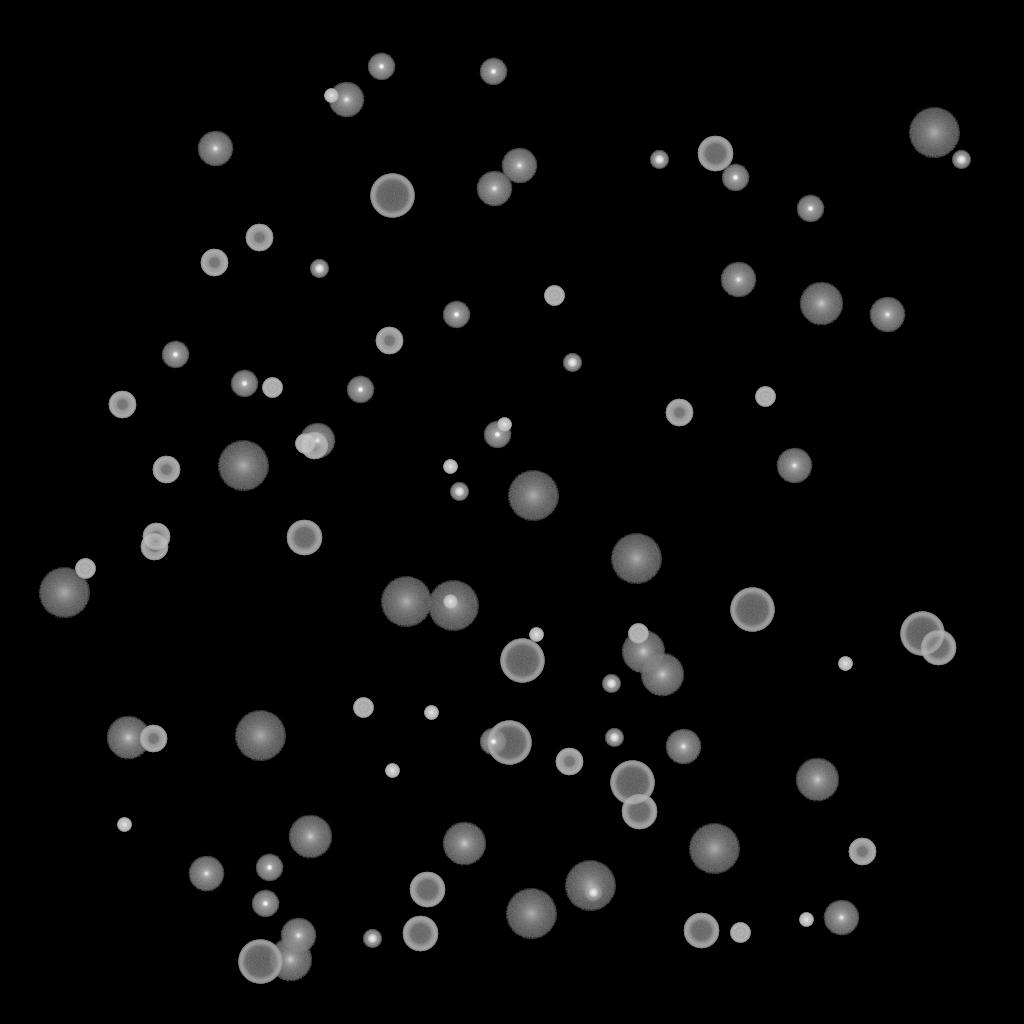depth:-10: (251, 890, 279, 918), (479, 728, 507, 756), (479, 58, 507, 86), (255, 854, 283, 882), (346, 376, 374, 404), (796, 195, 824, 223), (483, 421, 511, 449), (161, 341, 189, 369), (721, 164, 749, 192), (442, 301, 470, 329), (230, 370, 258, 398), (367, 53, 395, 81)
depth:-20: (363, 930, 381, 948), (450, 483, 468, 501), (310, 260, 328, 278), (650, 151, 668, 169), (602, 675, 620, 693), (605, 729, 623, 747), (563, 354, 581, 372), (952, 151, 970, 169), (584, 884, 602, 902)
depth:-30: (324, 89, 338, 103), (838, 657, 852, 671), (424, 706, 438, 720), (117, 818, 131, 832), (799, 913, 813, 927), (529, 628, 543, 642), (443, 460, 457, 474), (497, 418, 511, 432), (385, 764, 399, 778), (443, 595, 457, 609)
depth:-40: (353, 698, 373, 718), (75, 559, 95, 579), (295, 434, 315, 454), (730, 923, 750, 943), (628, 624, 648, 644), (755, 387, 775, 407), (544, 286, 564, 306), (262, 378, 282, 398)
depth:-50: (665, 399, 693, 427), (555, 748, 583, 776), (152, 456, 180, 484), (300, 432, 328, 460), (108, 391, 136, 419), (139, 725, 167, 753), (245, 224, 273, 252), (142, 523, 170, 551), (140, 533, 168, 561), (200, 249, 228, 277), (375, 327, 403, 355), (848, 838, 876, 866)
depth:-60: (683, 913, 719, 949), (621, 794, 657, 830), (697, 136, 733, 172), (286, 520, 322, 556), (920, 630, 956, 666), (409, 872, 445, 908), (402, 916, 438, 952)
depth:-70: (238, 940, 282, 984), (610, 761, 654, 805), (370, 174, 414, 218), (487, 721, 531, 765), (900, 612, 944, 656), (500, 639, 544, 683), (730, 588, 774, 632)
depth:0: (280, 918, 316, 954), (299, 423, 335, 459), (720, 262, 756, 298), (501, 148, 537, 184), (869, 297, 905, 333), (823, 900, 859, 936), (665, 729, 701, 765), (776, 448, 812, 484), (188, 856, 224, 892), (197, 131, 233, 167), (476, 171, 512, 207), (328, 82, 364, 118)
depth:10: (288, 815, 332, 859), (106, 716, 150, 760), (442, 822, 486, 866), (795, 758, 839, 802), (268, 938, 312, 982), (640, 653, 684, 697), (799, 282, 843, 326), (621, 630, 665, 674)
depth:20: (610, 534, 662, 584), (427, 581, 479, 631), (38, 568, 90, 618), (688, 824, 740, 874), (505, 889, 557, 939), (908, 108, 960, 158), (380, 577, 432, 627), (507, 471, 559, 521), (564, 861, 616, 911), (234, 711, 286, 761), (217, 441, 269, 491)
